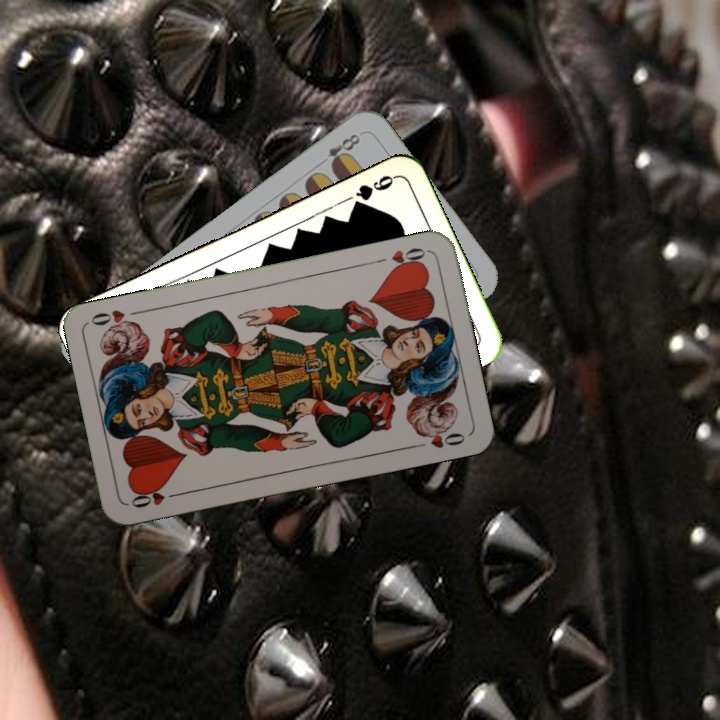E8: (314, 129, 363, 171)
G9: (348, 171, 399, 212)
HO: (371, 243, 430, 273), (127, 484, 185, 511)
